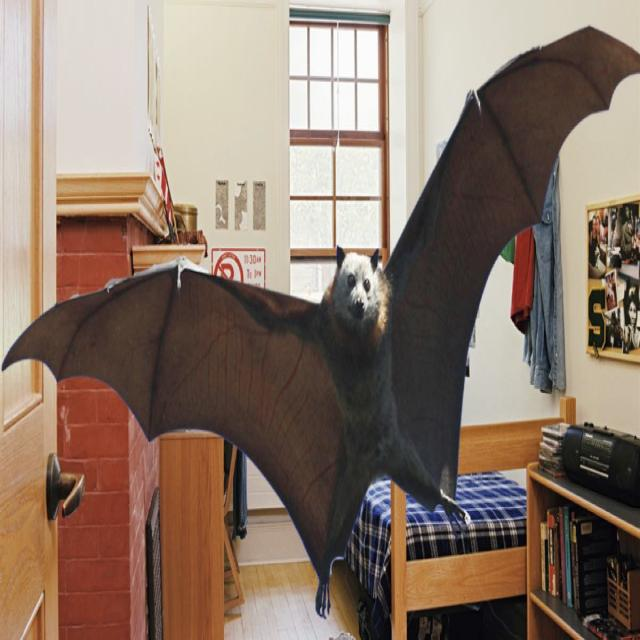bat: (2, 27, 639, 615)
